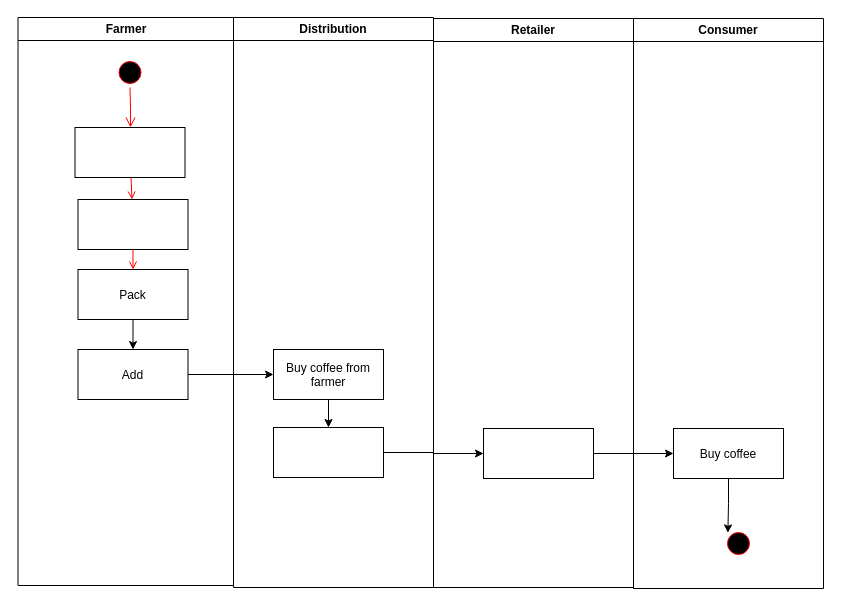
This 841x606 diagram has some shape labels left out. The shapes that lost their labels are listed below. From the top down, each one's box as (x1, y1, x2, y2) in pixels, then its label:
(74, 126, 185, 178): Harvesting
(77, 198, 188, 250): Processing
(272, 426, 384, 478): Ship
(482, 428, 594, 478): Receive coffee
